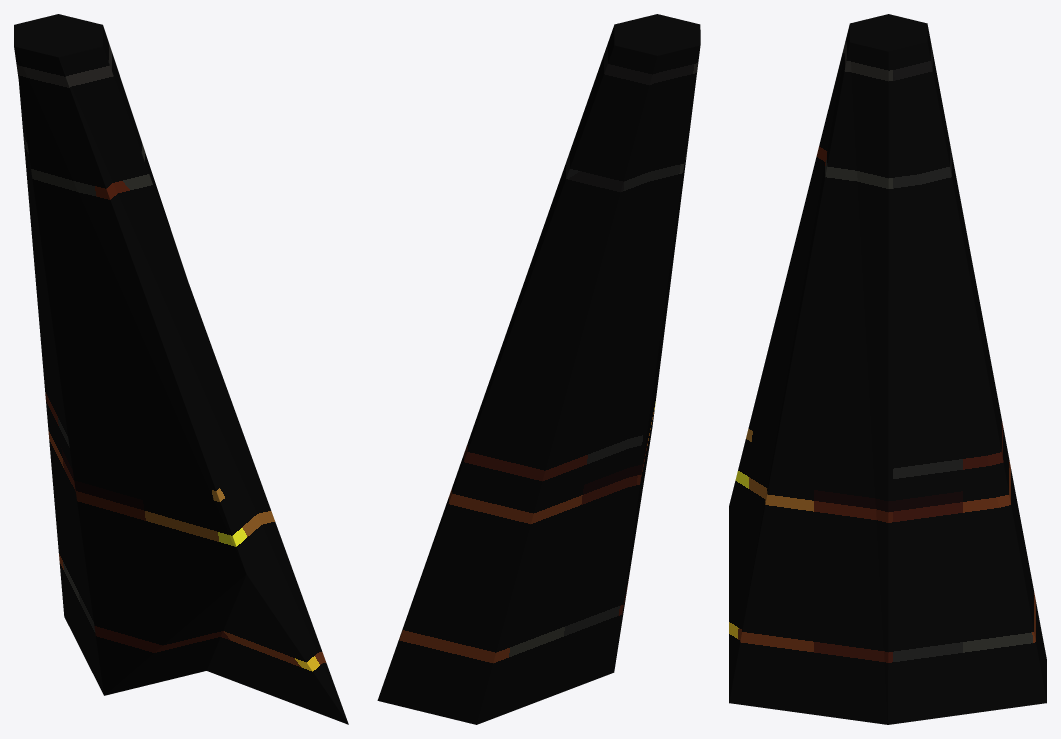
The model's file is bridg3.obj.
3 renders of one model, left to right at view 1: azimuth 30°, elevation 25°; view 2: azimuth 150°, elevation 25°; view 3: azimuth 270°, elevation 25°, orthographic. The views are drawn at different scales.
Size of the model in its own units: 16.34 by 35.54 by 17.49.
1 material, 1 textured.
